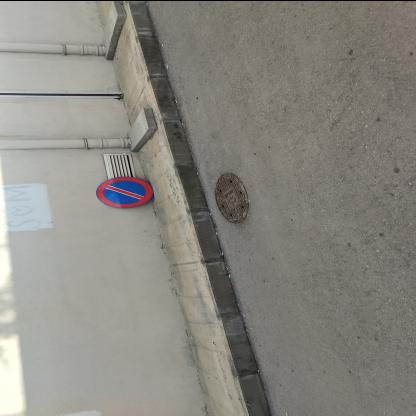No Waiting: (97, 178, 153, 208)
